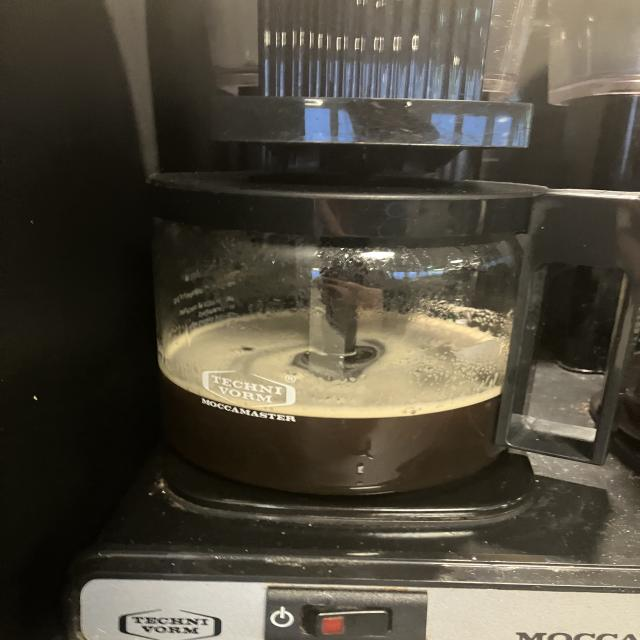coffee: (132, 186, 546, 494)
